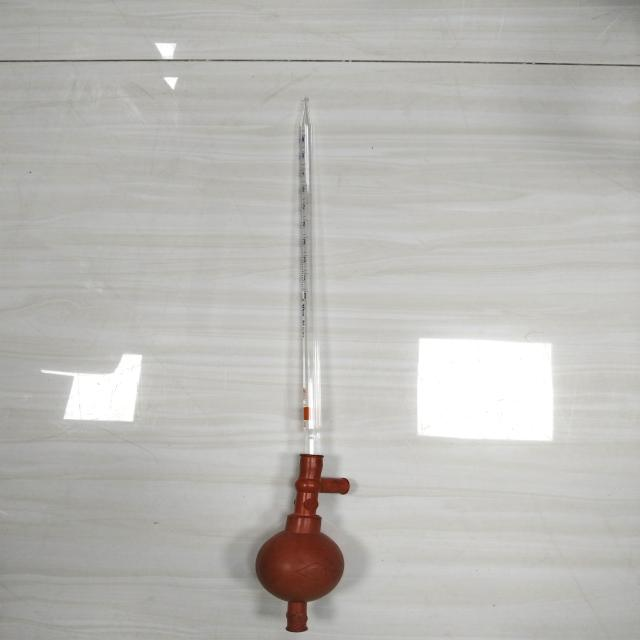Volumetric_Pipet: (241, 87, 394, 638)
